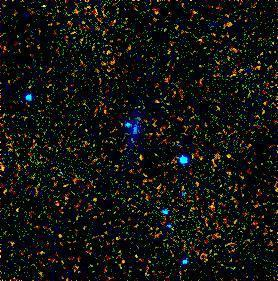star: (115, 107, 145, 137)
